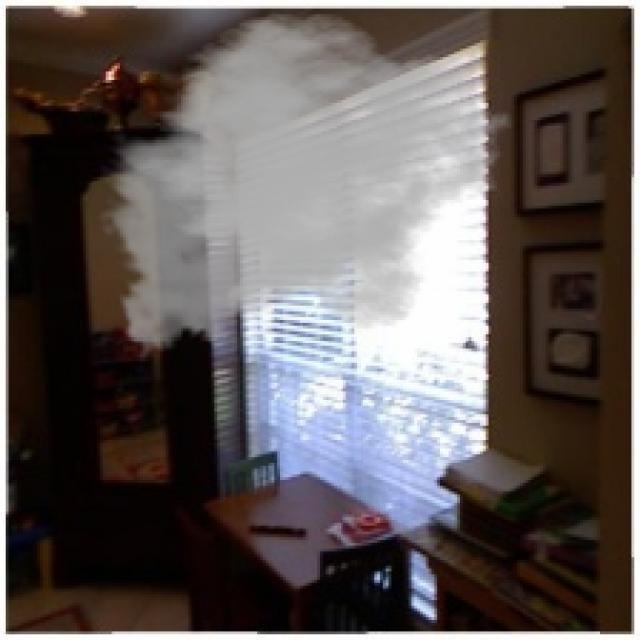Smoke: (97, 11, 514, 366)
